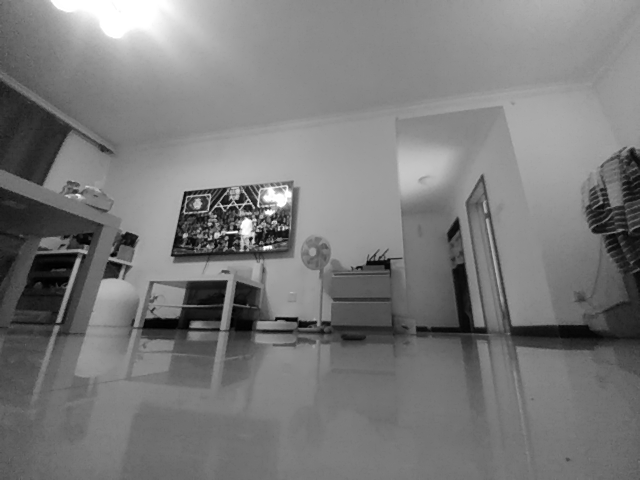pet feces: (338, 331, 366, 343)
